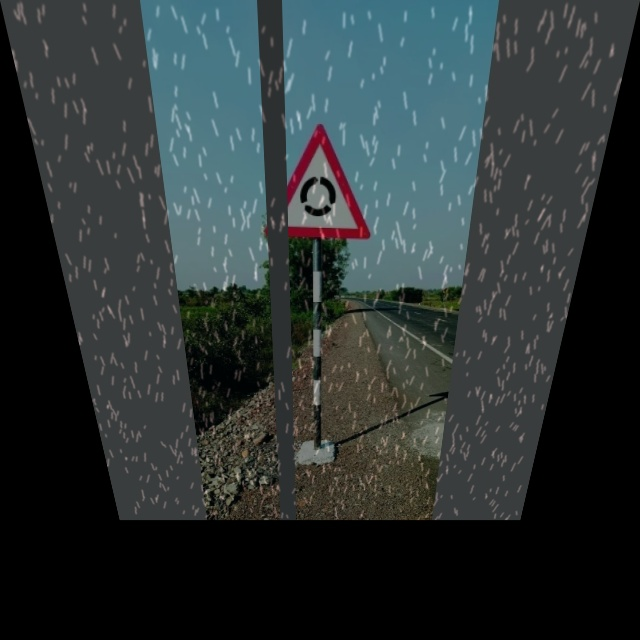Round_About: (262, 122, 378, 239)
